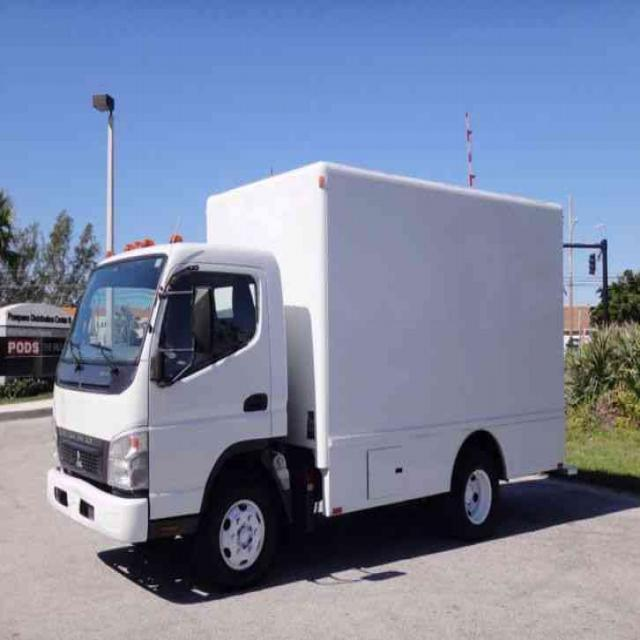trunk: (35, 150, 569, 585)
